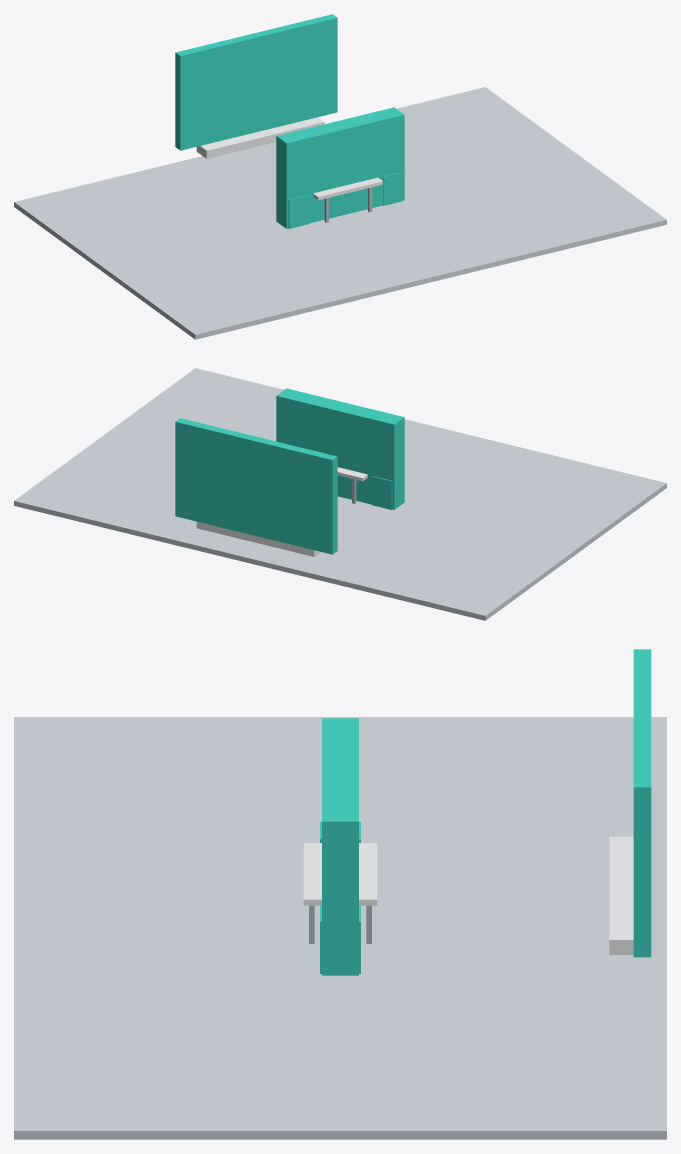
3 views of the same model, one above another, from view 1: azimuth 30°, elevation 25°; view 2: azimuth 150°, elevation 25°; view 3: azimuth 270°, elevation 25° (orthographic). The views are drawn at different scales.
Parts seen in each view (by area): view 1: Exhibition Booth Concept; view 2: Exhibition Booth Concept; view 3: Exhibition Booth Concept.
Boxes of the visible parts, x1,y1,x2,y2 form: Exhibition Booth Concept: [14, 14, 666, 339]; Exhibition Booth Concept: [14, 368, 666, 620]; Exhibition Booth Concept: [14, 649, 666, 1139].
Size of the model in its own units: 12 by 2.9 by 8.
